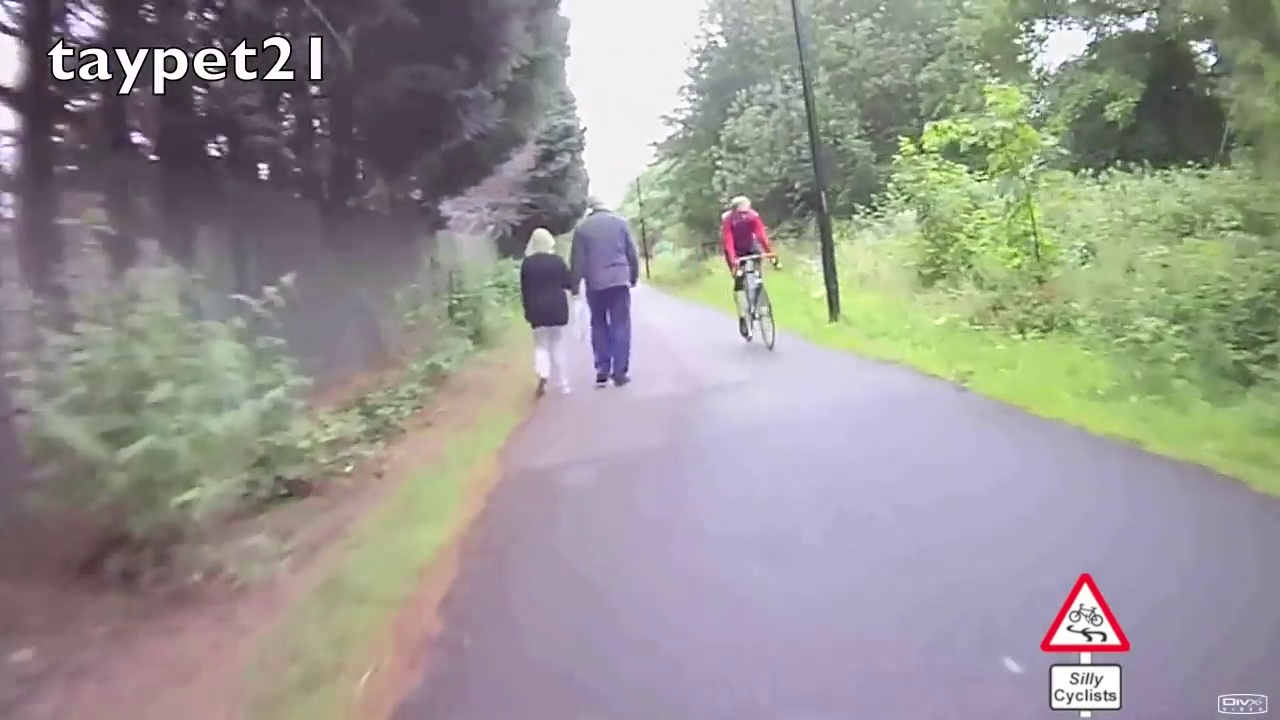cyclist_front: (712, 187, 791, 356)
